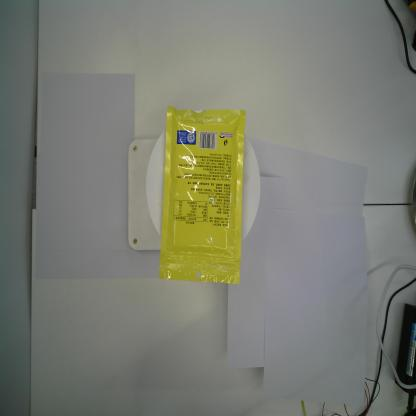Dried Fruit: (158, 107, 246, 286)
